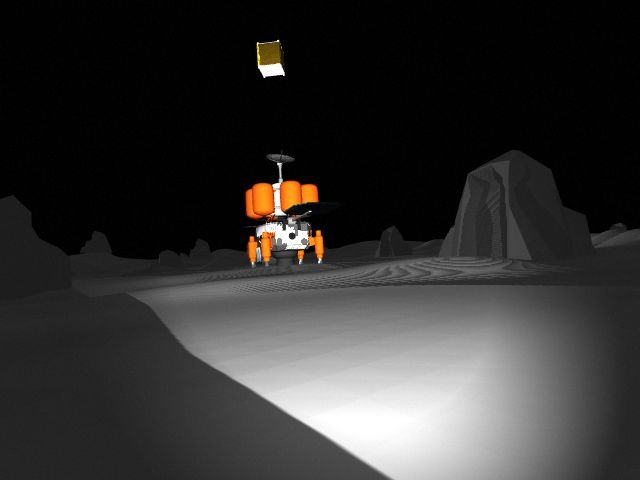cubesat: (252, 37, 295, 84)
